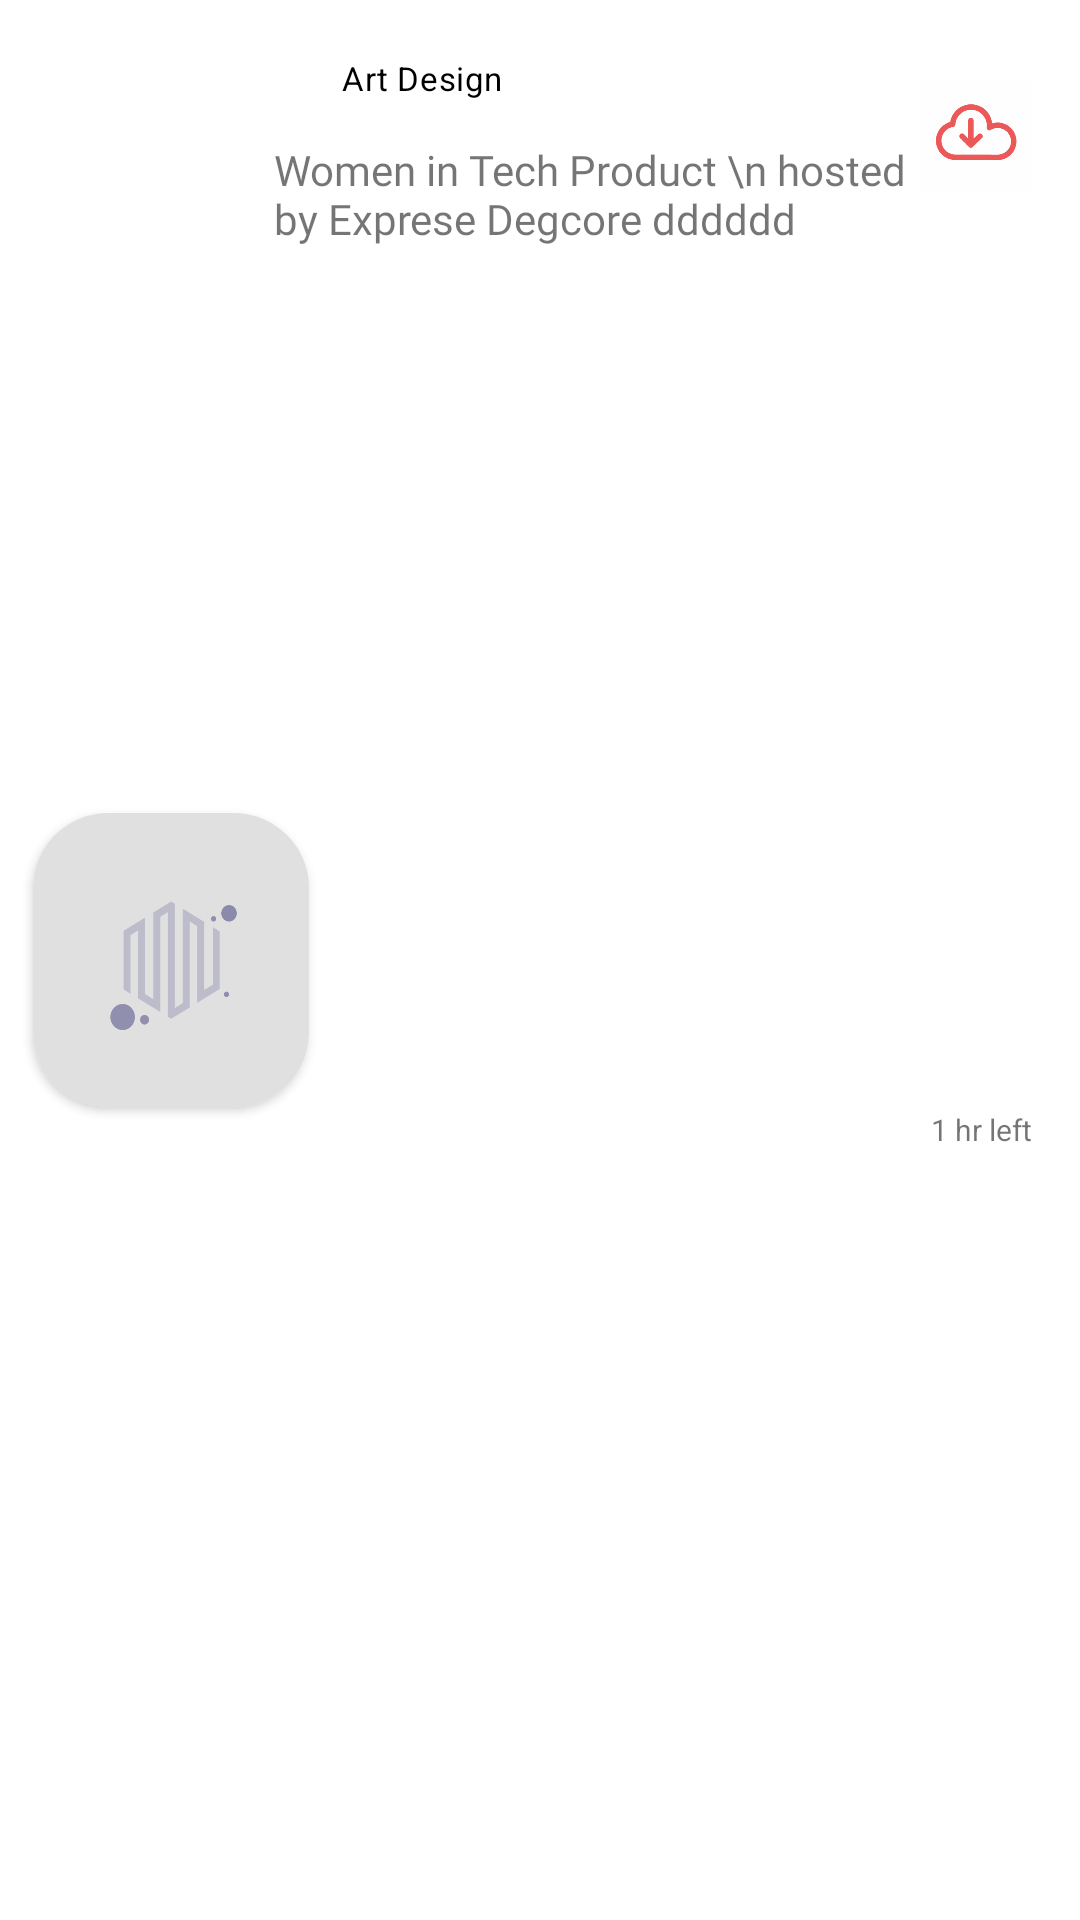

Screen size 1080×1920. Icon name, then its box in pixels as (x1, y1, x2, y2):
download: (936, 104, 1017, 160)
